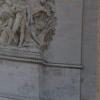Statue: (2, 1, 62, 57)
